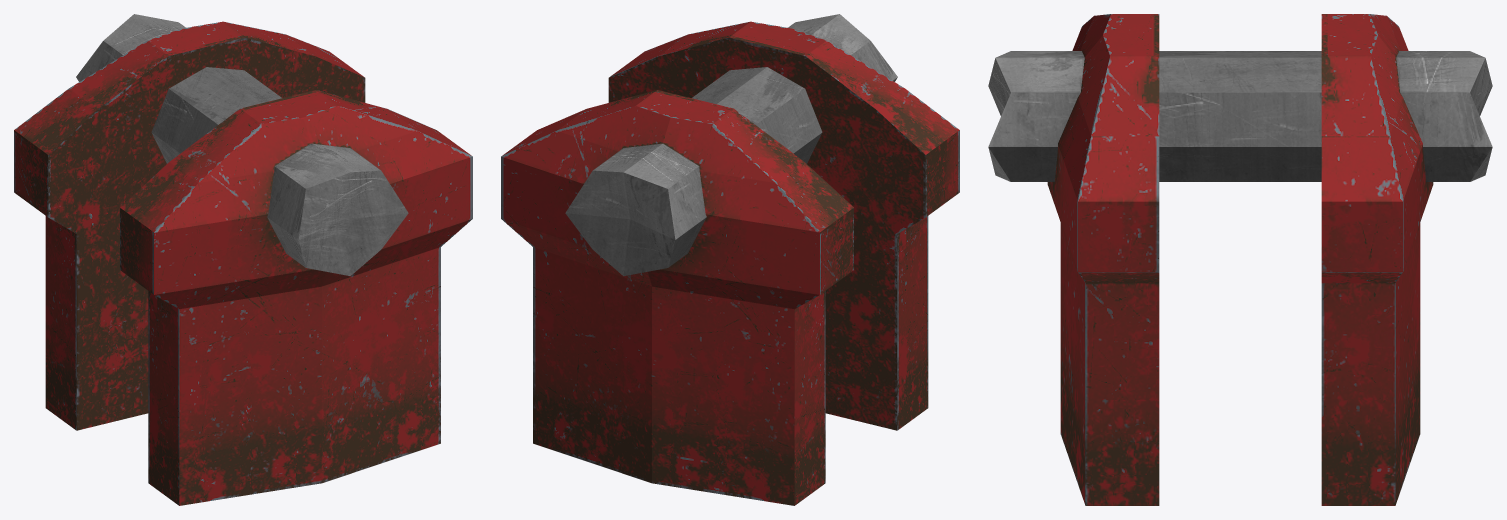
Rendered from TurretHolder.glb.
3 views of the same model, side by side, from view 1: azimuth 30°, elevation 25°; view 2: azimuth 150°, elevation 25°; view 3: azimuth 270°, elevation 25° (orthographic). The views are drawn at different scales.
Visible parts, largest first — view 1: Cube.001; view 2: Cube.001; view 3: Cube.001.
Boxes of the visible parts, x1,y1,x2,y2 form: Cube.001: [14, 14, 472, 505]; Cube.001: [501, 14, 959, 505]; Cube.001: [988, 14, 1492, 505].
Size of the model in its own units: 1.63 by 1.73 by 1.98.
2 materials, 2 textured.
